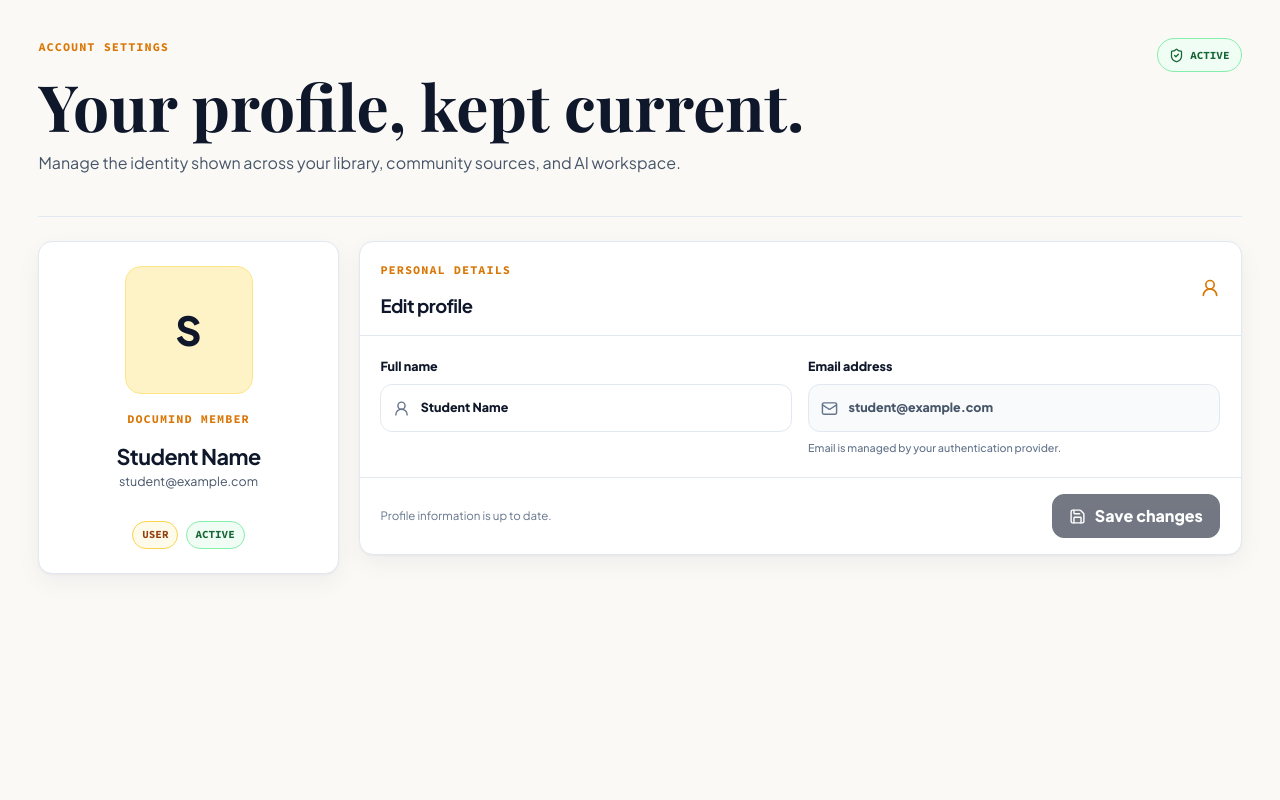
it: ProfileView › opens avatar upload and URL controls from the avatar
Click the button named "Edit avatar" at x=188, y=330, box top-left (124, 266), bottom-right (252, 394)
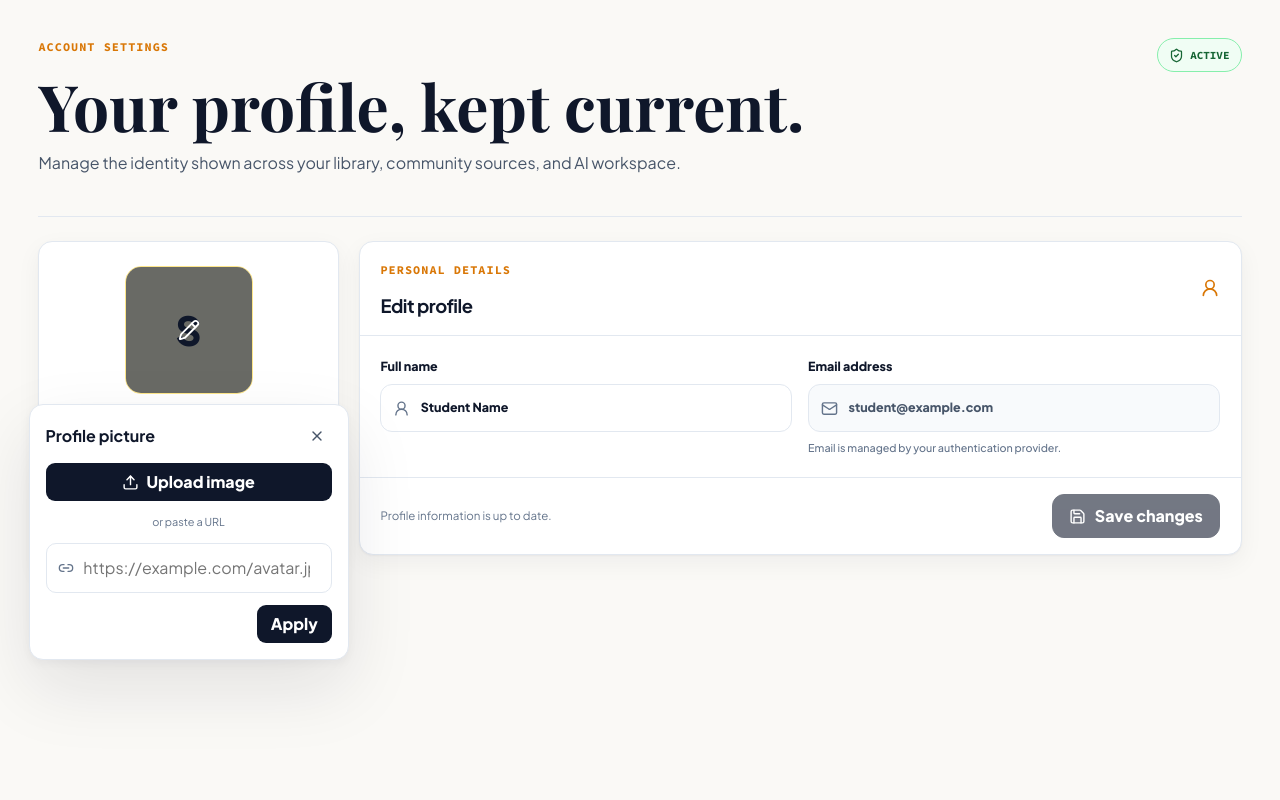
expect the button "Upload image" is shown: met, box top-left (46, 463), bottom-right (332, 501)
expect the field with placeholder "https://example.com/avatar.jpg" is shown: met, box top-left (74, 544), bottom-right (319, 592)
